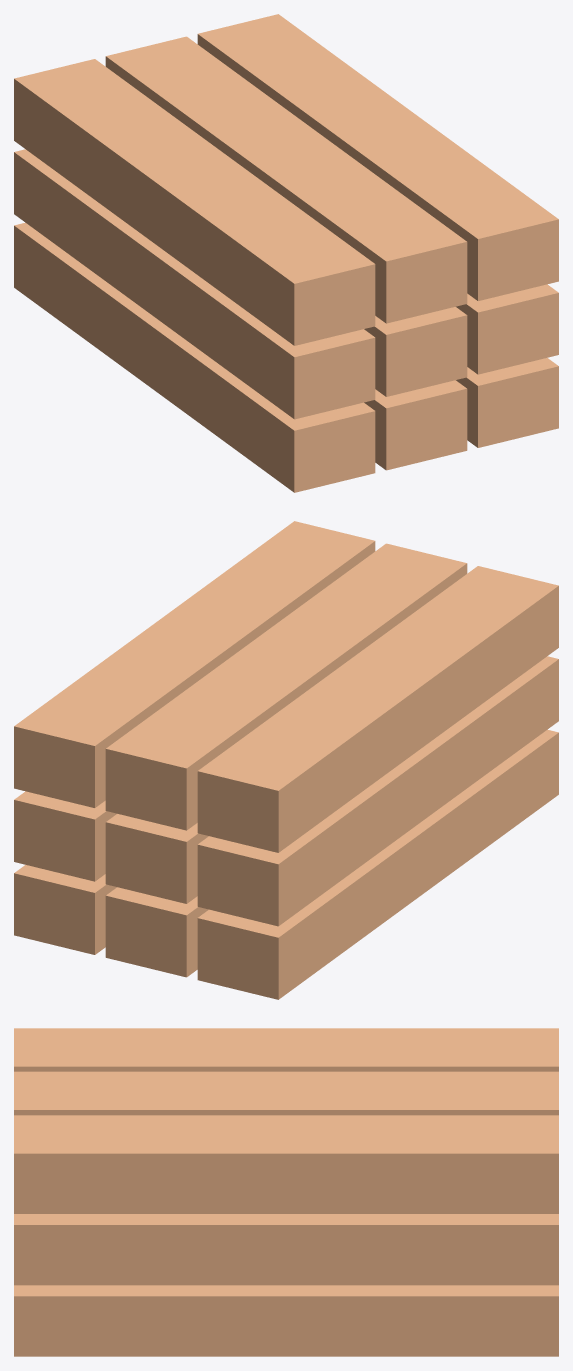
The picture shows the model from 3 angles, top to bottom: view 1: azimuth 30°, elevation 25°; view 2: azimuth 150°, elevation 25°; view 3: azimuth 270°, elevation 25°; orthographic projection. The views are drawn at different scales.
Visible parts, largest first — view 1: Timber.006, Timber.007, Timber.008, Timber.003, Timber, Timber.001, Timber.004, Timber.005, Timber.002; view 2: Timber.006, Timber.007, Timber.008, Timber.003, Timber, Timber.001, Timber.004, Timber.005, Timber.002; view 3: Timber.008, Timber.002, Timber.005, Timber.007, Timber.006.
Boxes of the visible parts, x1,y1,x2,y2 form: Timber.006: [14, 59, 375, 345]; Timber.007: [105, 36, 467, 323]; Timber.008: [197, 14, 558, 300]; Timber.003: [14, 149, 375, 419]; Timber: [14, 222, 375, 492]; Timber.001: [364, 380, 467, 470]; Timber.004: [364, 307, 467, 396]; Timber.005: [456, 284, 558, 374]; Timber.002: [456, 358, 558, 447]; Timber.006: [197, 566, 558, 852]; Timber.007: [105, 543, 467, 830]; Timber.008: [14, 521, 375, 807]; Timber.003: [197, 656, 558, 926]; Timber: [197, 729, 558, 999]; Timber.001: [105, 887, 208, 977]; Timber.004: [105, 814, 208, 903]; Timber.005: [14, 791, 116, 881]; Timber.002: [14, 865, 116, 954]; Timber.008: [14, 1115, 558, 1213]; Timber.002: [14, 1285, 558, 1356]; Timber.005: [14, 1214, 558, 1285]; Timber.007: [14, 1071, 558, 1115]; Timber.006: [14, 1028, 558, 1071].
Size of the model in its own units: 0.49 by 0.37 by 0.9.
1 material, 1 textured.
